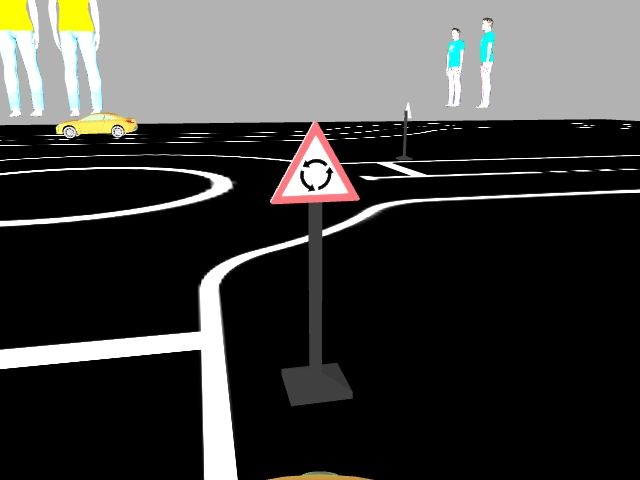Roundabout: (261, 119, 365, 202)
